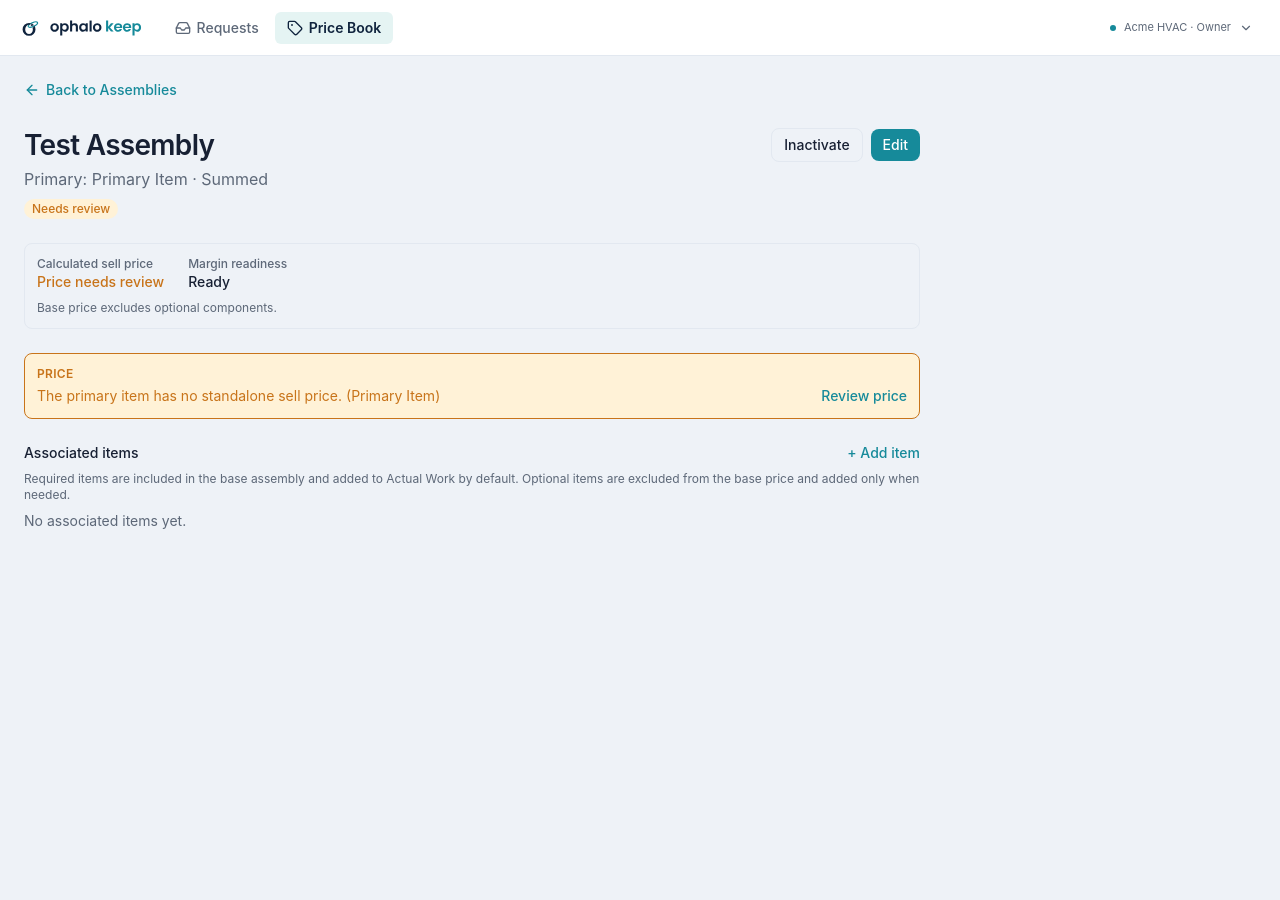
it: App — Assembly repair-loop routing › clicking a price reason's 'Review price' link navigates to the affected catalog item with return context
What coordinates should you click on to do the following:
click the button "Review price"
I would click on:
 (864, 396)
Its box is [821,386,907,406].
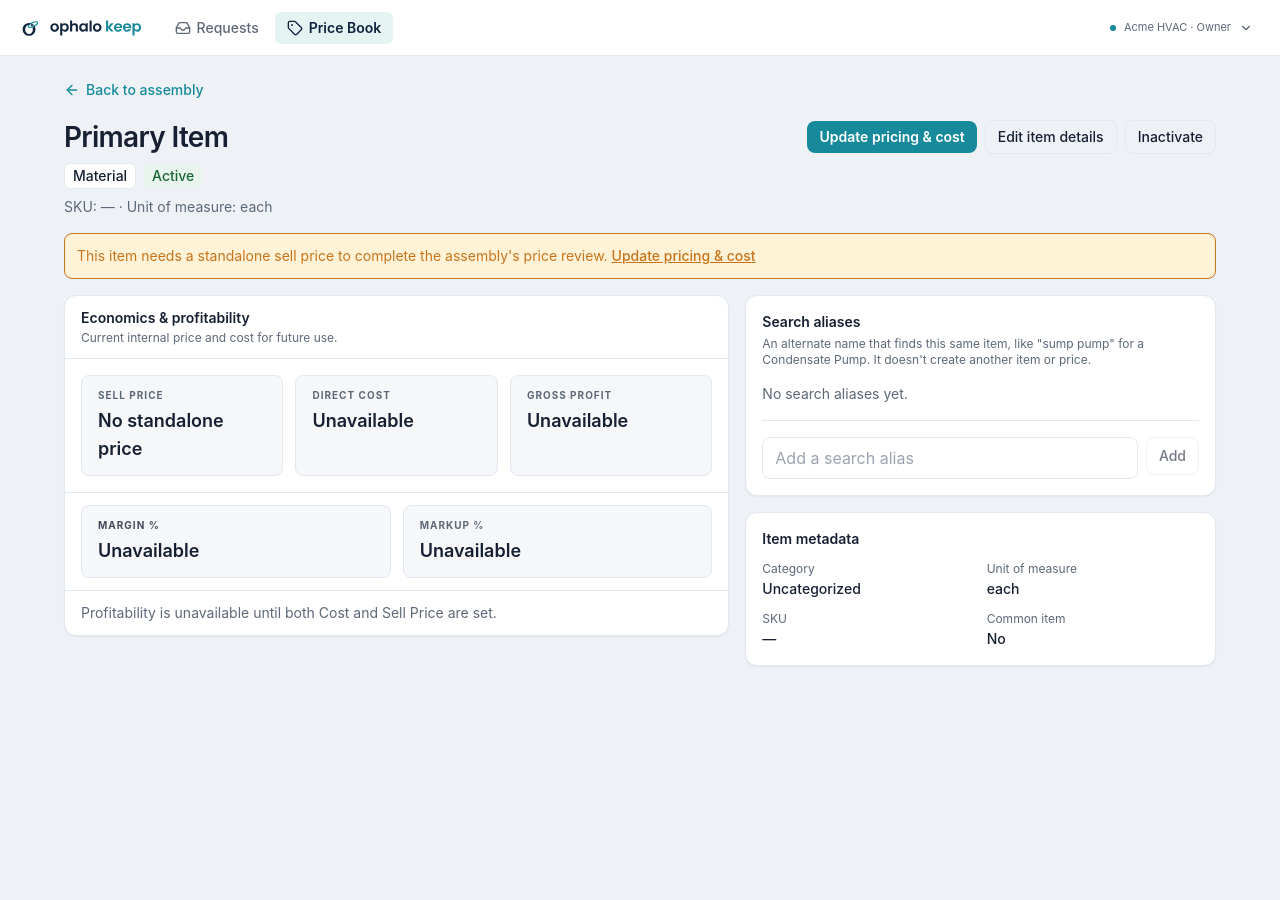
Expected: the button "Back to assembly" is shown, [64,80,204,100]
